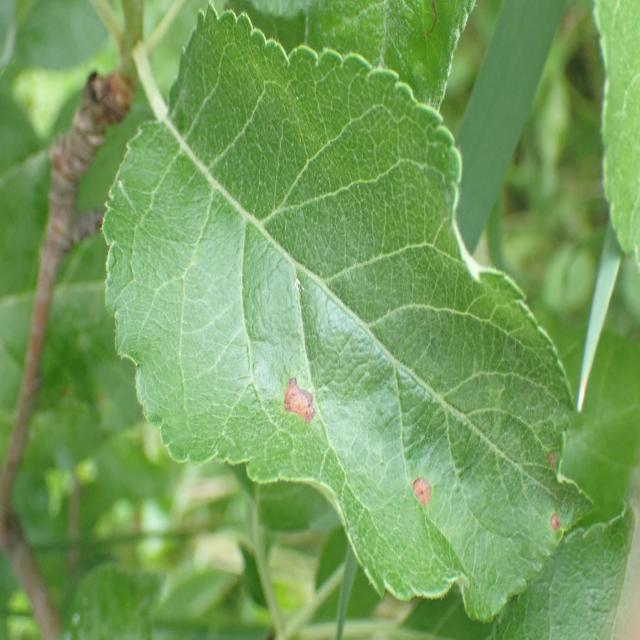Black Rot: (264, 343, 321, 436), (405, 465, 441, 538), (536, 499, 564, 554), (532, 436, 564, 482)
